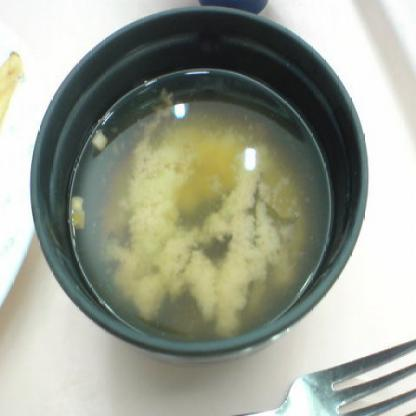miso soup: (65, 63, 333, 341)
